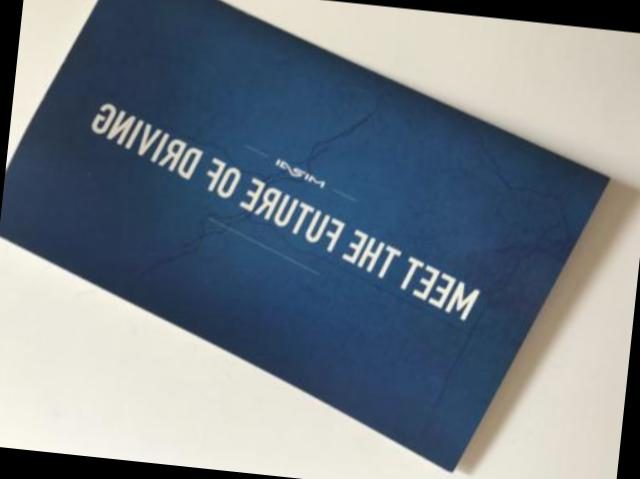cardboard paper: (0, 0, 606, 471)
